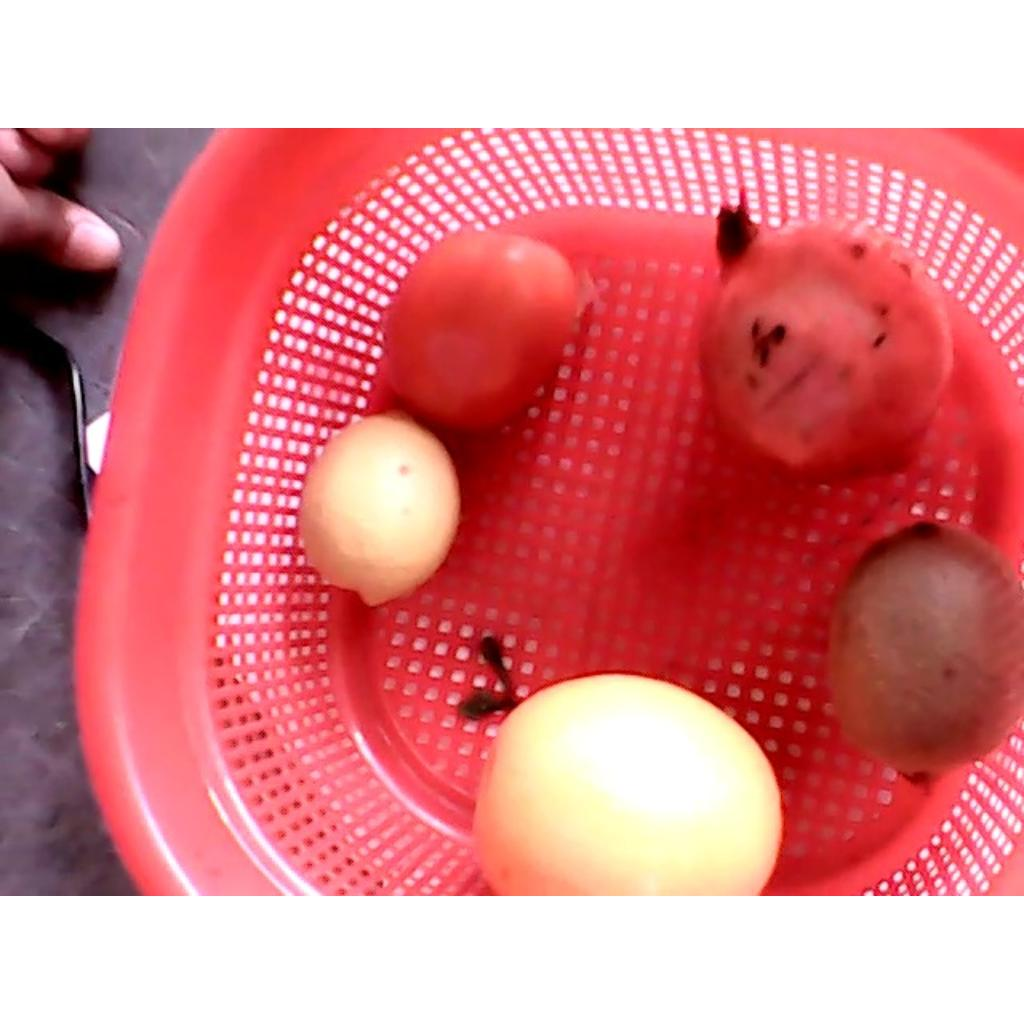kiwi: (826, 521, 1021, 787)
lemon: (295, 406, 458, 605)
orange: (473, 676, 780, 893)
pomegranate: (697, 193, 956, 489)
tomato: (380, 230, 574, 427)
